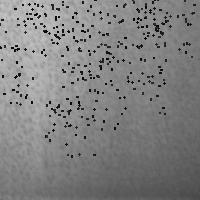pitted_surface: (1, 1, 198, 198), (51, 30, 111, 89), (45, 101, 105, 155), (0, 4, 56, 61), (61, 71, 117, 128), (136, 0, 191, 57), (111, 56, 165, 113), (52, 22, 108, 75), (43, 0, 100, 48), (107, 0, 165, 46), (0, 46, 32, 104), (20, 0, 77, 32), (137, 0, 193, 31)
